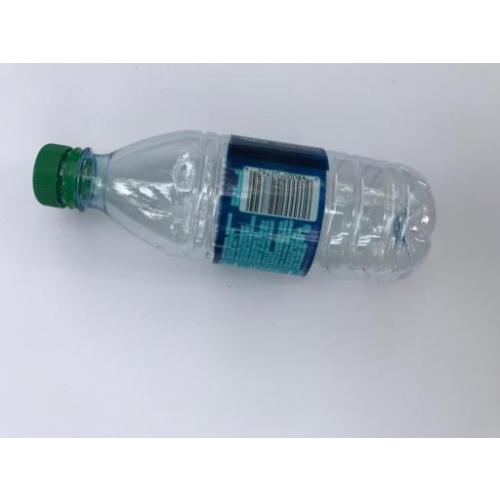plastic: (32, 129, 435, 279)
